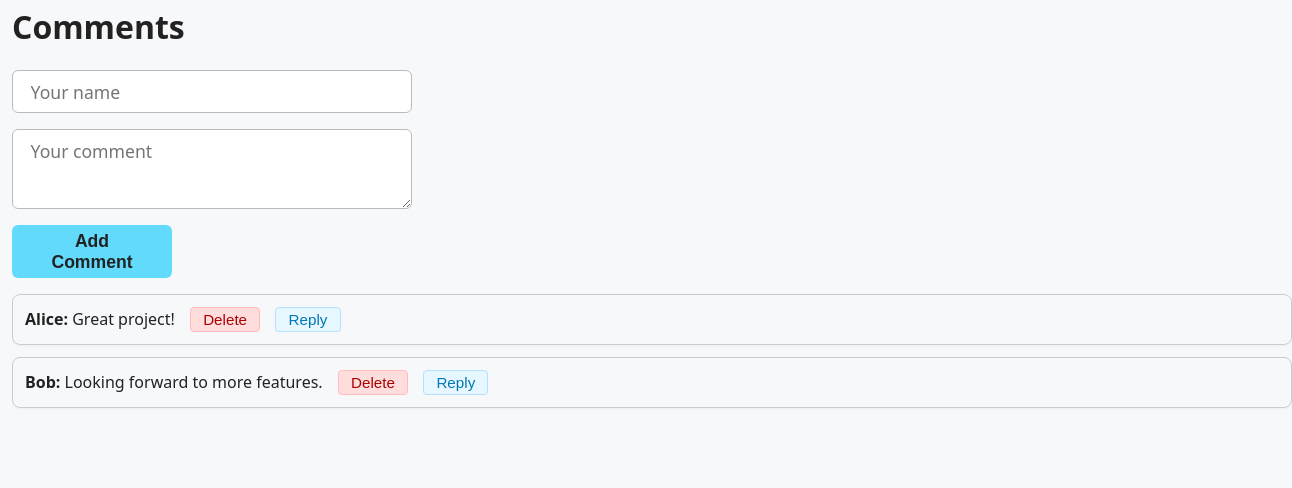
it: allows a new comment to be added and displayed
The width and height of the screenshot is (1292, 488).
Type "Charlie" into the field with placeholder "Your name" at (212, 92), box top-left (12, 70), bottom-right (412, 114)
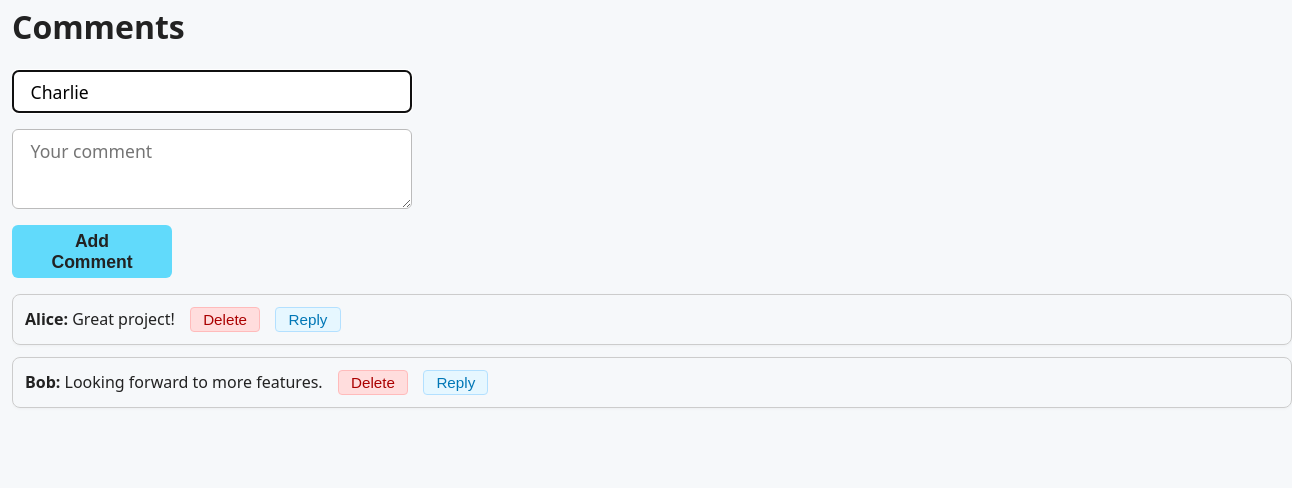
Type "This is a new comment." into the text box with placeholder "Your comment" at (212, 170), box top-left (12, 130), bottom-right (412, 210)
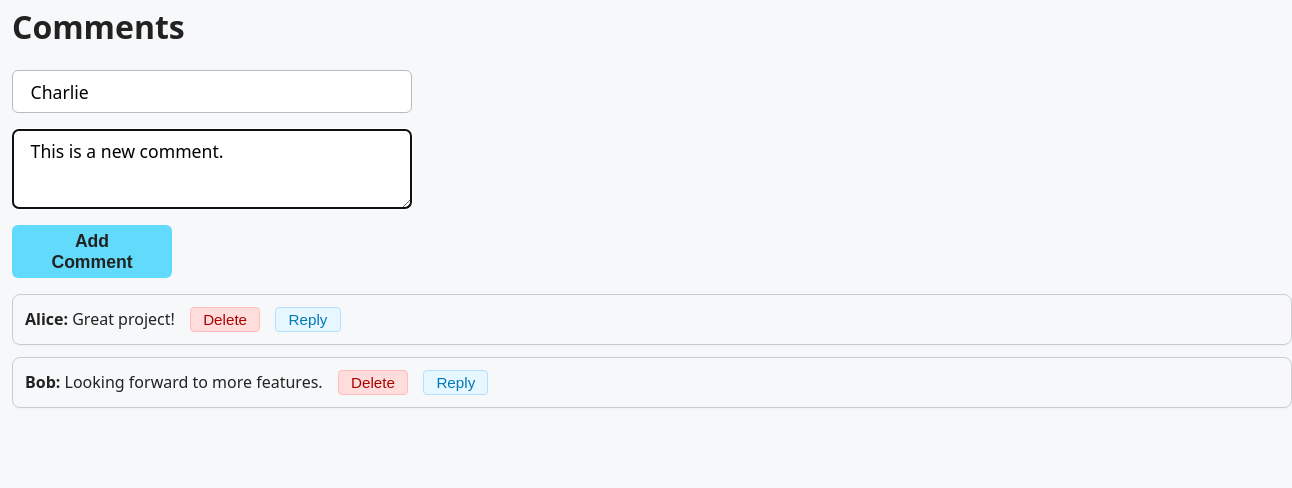
Click the button "Add Comment" at (92, 252), box top-left (12, 226), bottom-right (172, 278)
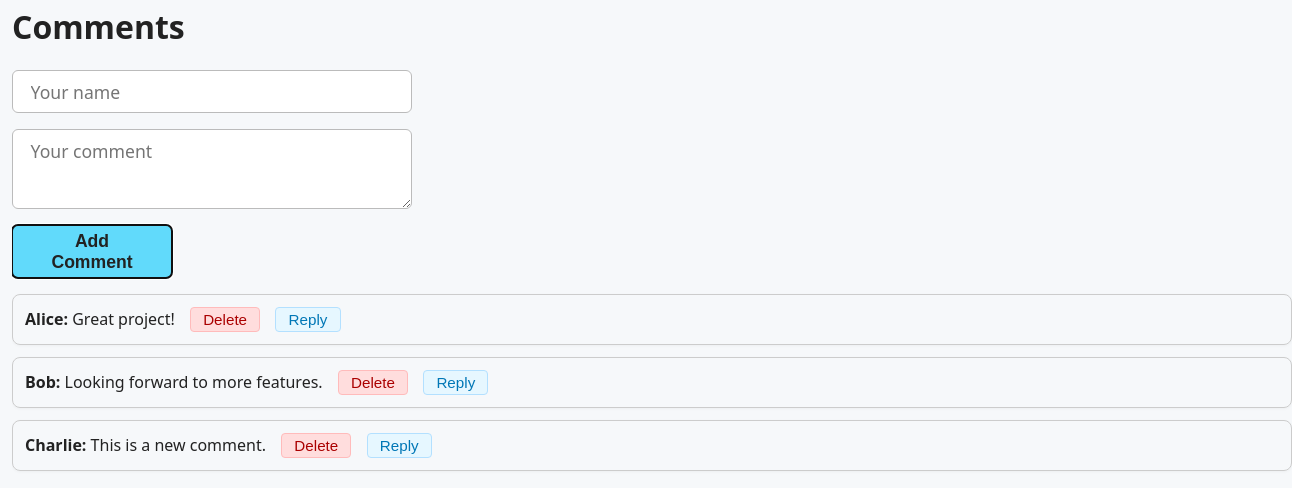
Check: the text "Charlie:" is shown, box top-left (25, 434), bottom-right (86, 456)
Check: the list item "This is a new comment." is shown, box top-left (91, 434), bottom-right (266, 456)
